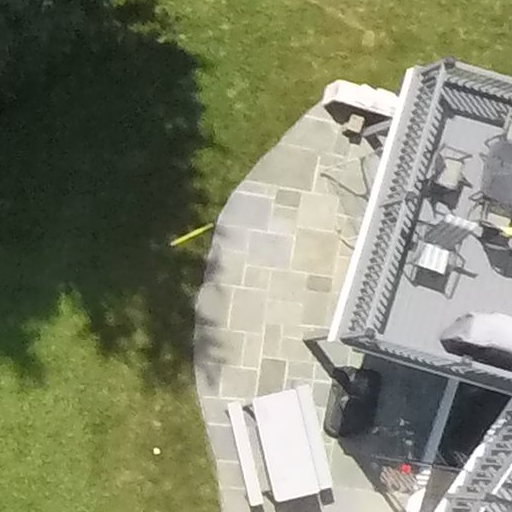chair: (418, 202, 474, 294), (427, 140, 473, 195)
porch: (316, 37, 512, 394)
table: (213, 362, 343, 511)
